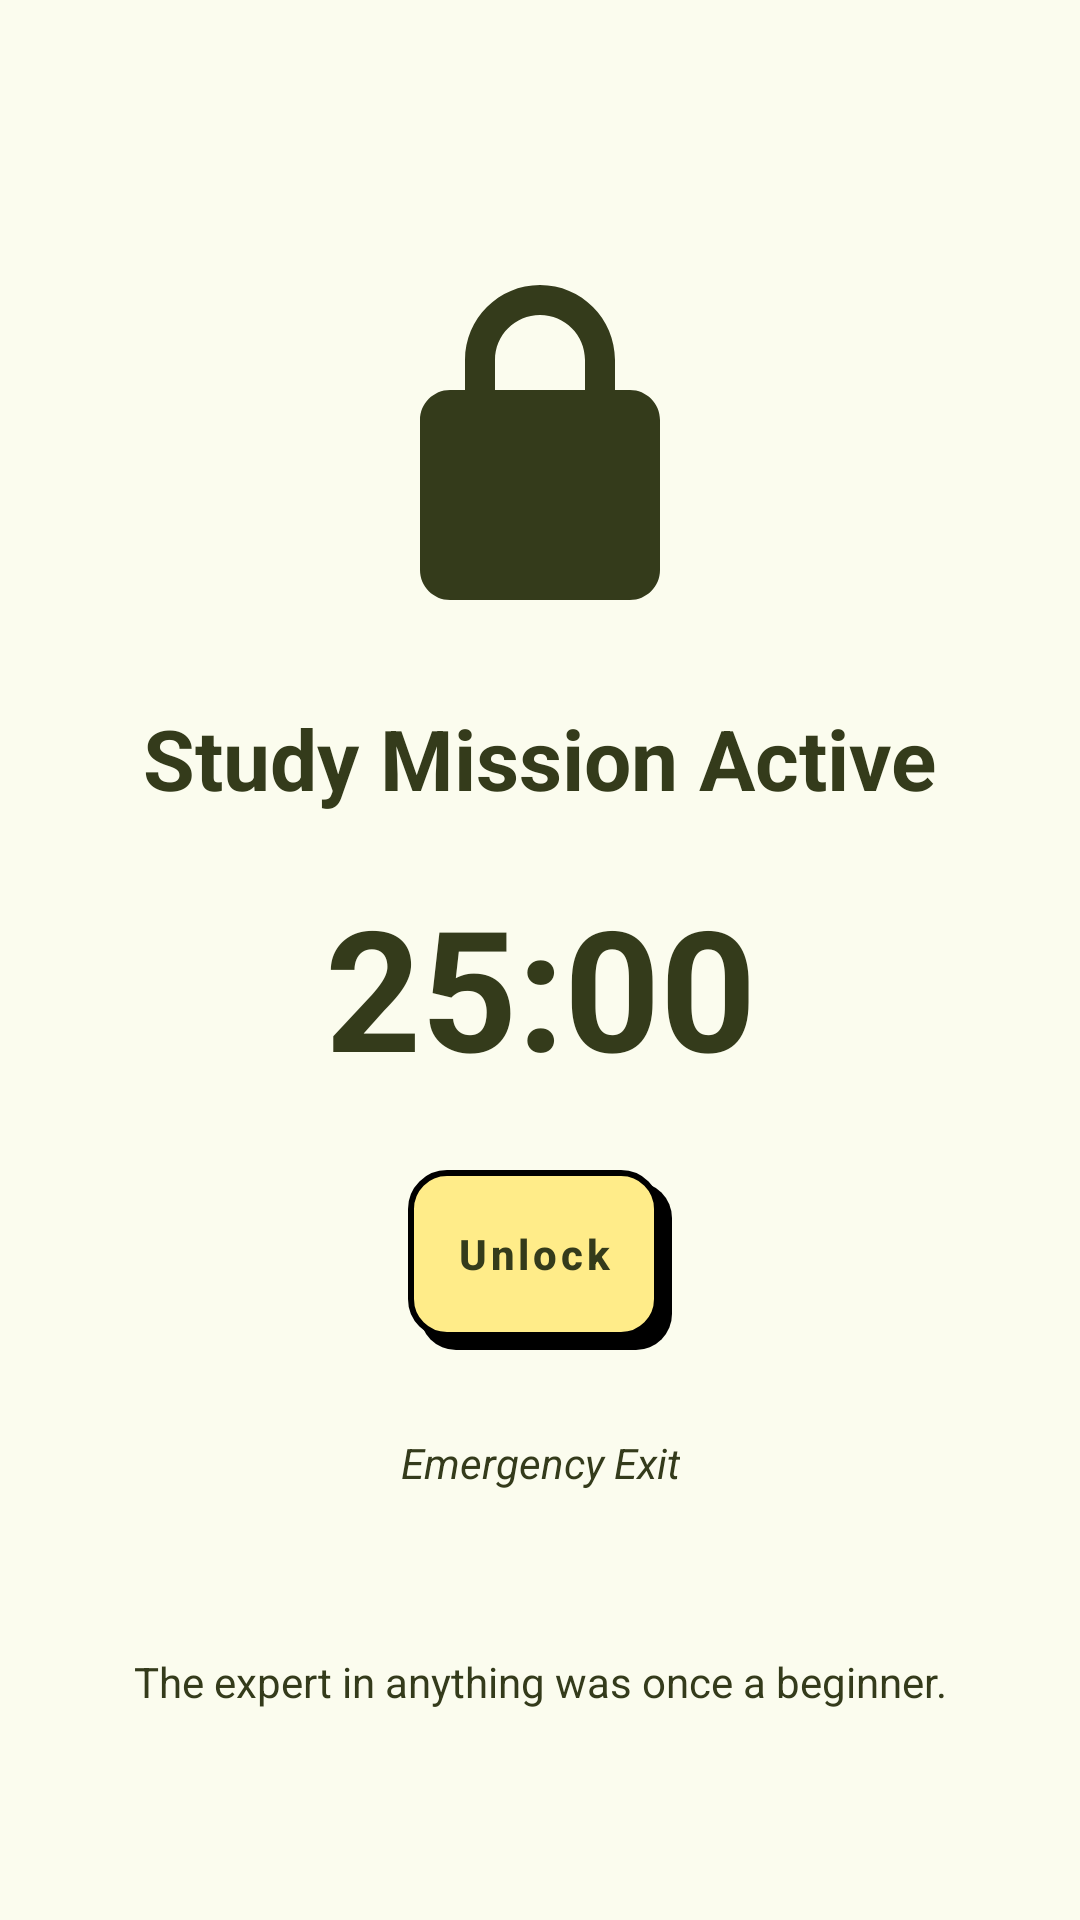

Icon bounding boxes for this 1080px x 1920px phone screenshot, format (x1, y1, x2, y2):
lock chunky: (420, 285, 660, 600)
